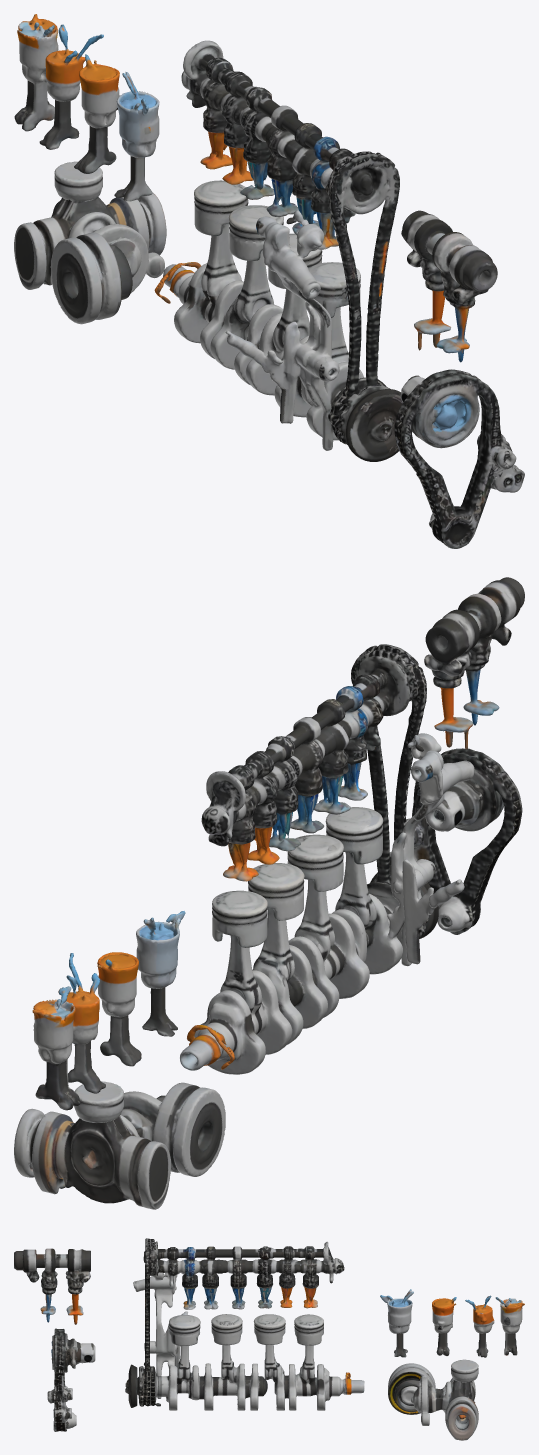
The model's file is engine-crankshaft.glb.
3 renders of one model, top to bottom at view 1: azimuth 30°, elevation 25°; view 2: azimuth 150°, elevation 25°; view 3: azimuth 270°, elevation 25°, orthographic. The views are drawn at different scales.
Visible parts, largest first — view 1: tripo_node_5f9cc1cf-beee-4ddf-8b53-2730834829c0; view 2: tripo_node_5f9cc1cf-beee-4ddf-8b53-2730834829c0; view 3: tripo_node_5f9cc1cf-beee-4ddf-8b53-2730834829c0.
Boxes of the visible parts, <box> form: tripo_node_5f9cc1cf-beee-4ddf-8b53-2730834829c0: <box>14,14,524,548</box>; tripo_node_5f9cc1cf-beee-4ddf-8b53-2730834829c0: <box>14,577,524,1209</box>; tripo_node_5f9cc1cf-beee-4ddf-8b53-2730834829c0: <box>14,1238,524,1440</box>.
Bounding box in the file's own units: 0.2291 × 0.4053 × 1.
Materials: 1 (1 with a texture image).
